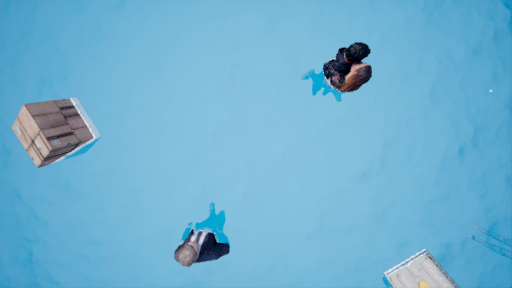person: (304, 39, 377, 107), (163, 202, 235, 265)
